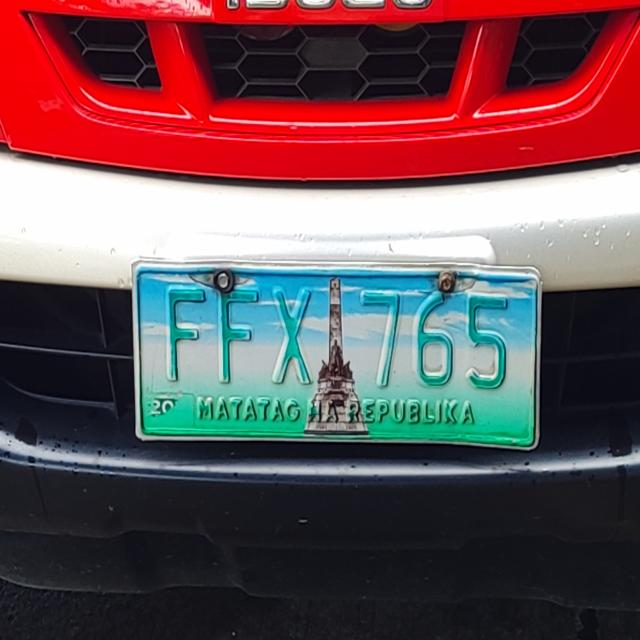plate: (125, 249, 548, 459)
